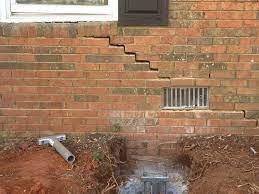stairstep_crack: (83, 34, 169, 79), (235, 108, 258, 124)
